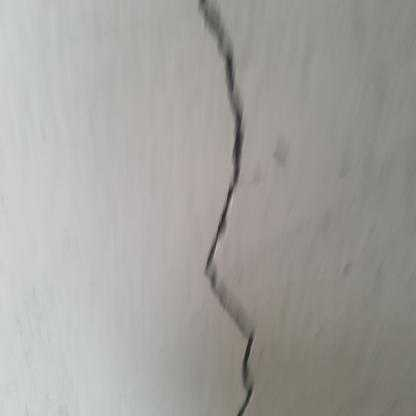crack: (198, 0, 259, 416)
